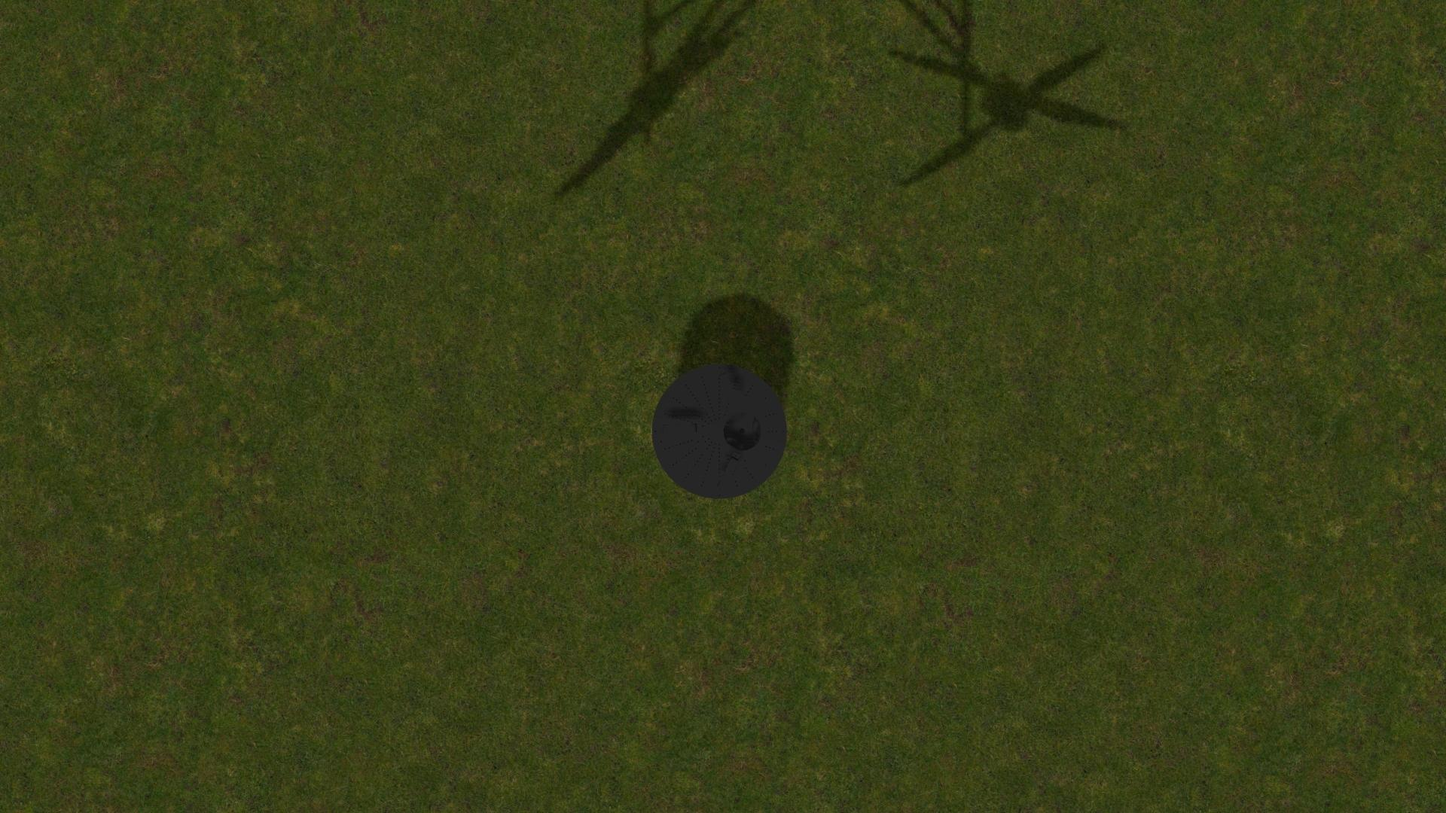alca: (716, 451, 740, 492), (717, 369, 741, 409), (659, 424, 701, 433)
armadilha: (652, 364, 787, 499)
